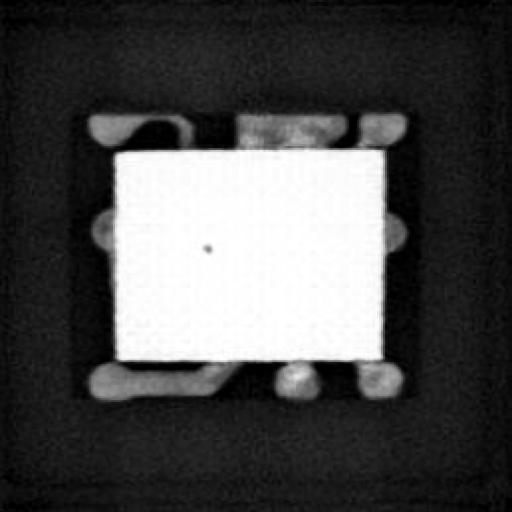DIE_INK: (196, 239, 214, 254)
